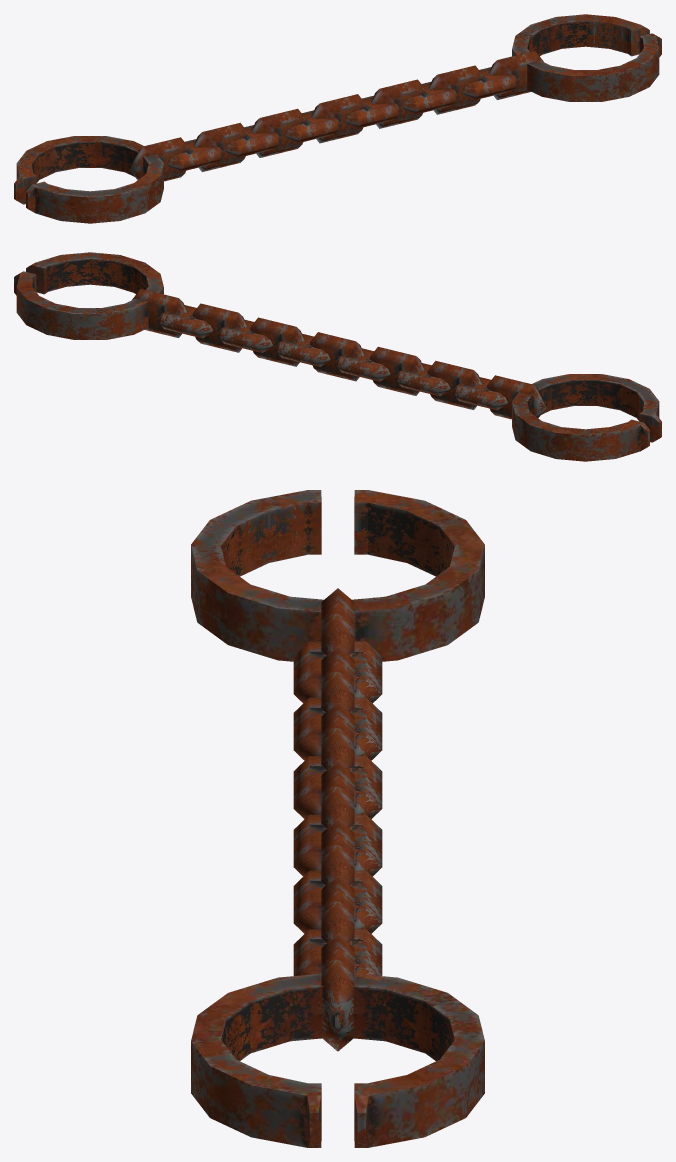
Rendered from rusted_chain_shackles.glb.
3 views of the same model, one above another, from view 1: azimuth 30°, elevation 25°; view 2: azimuth 150°, elevation 25°; view 3: azimuth 270°, elevation 25° (orthographic). The views are drawn at different scales.
Visible parts, largest first — view 1: pTorus1, pTorus2, pCylinder12, pCylinder3, pCylinder11, pCylinder5, pCylinder7, pCylinder13, pCylinder2, pCylinder1, pCylinder6, pCylinder10 (+3 smaller); view 2: pTorus1, pTorus2, pCylinder3, pCylinder12, pCylinder11, pCylinder5, pCylinder7, pCylinder13, pCylinder2, pCylinder1, pCylinder6, pCylinder10 (+3 smaller); view 3: pTorus2, pTorus1, pCylinder2, pCylinder8, pCylinder4, pCylinder9, pCylinder6, pCylinder10, pCylinder1, pCylinder11, pCylinder3, pCylinder12 (+3 smaller).
Boxes of the visible parts, <box> form: pTorus1: <box>14,136,163,223</box>; pTorus2: <box>512,14,661,101</box>; pCylinder12: <box>311,94,365,143</box>; pCylinder3: <box>429,65,483,114</box>; pCylinder11: <box>251,108,305,157</box>; pCylinder5: <box>371,79,425,128</box>; pCylinder7: <box>194,122,248,171</box>; pCylinder13: <box>129,137,188,181</box>; pCylinder2: <box>489,51,543,99</box>; pCylinder1: <box>462,67,517,100</box>; pCylinder6: <box>345,95,399,128</box>; pCylinder10: <box>168,139,222,172</box>; pTorus1: <box>512,374,661,461</box>; pTorus2: <box>14,252,163,339</box>; pCylinder3: <box>192,303,246,352</box>; pCylinder12: <box>310,332,364,381</box>; pCylinder11: <box>370,346,424,395</box>; pCylinder5: <box>250,317,304,366</box>; pCylinder7: <box>427,360,481,409</box>; pCylinder13: <box>487,375,546,419</box>; pCylinder2: <box>132,289,186,337</box>; pCylinder1: <box>158,305,213,338</box>; pCylinder6: <box>276,333,330,366</box>; pCylinder10: <box>453,377,507,410</box>; pTorus2: <box>191,973,484,1147</box>; pTorus1: <box>191,490,484,661</box>; pCylinder2: <box>321,934,354,1051</box>; pCylinder8: <box>293,756,382,818</box>; pCylinder4: <box>293,870,382,933</box>; pCylinder9: <box>293,697,382,760</box>; pCylinder6: <box>293,814,382,876</box>; pCylinder10: <box>293,641,382,703</box>; pCylinder1: <box>293,929,382,975</box>; pCylinder11: <box>321,702,354,769</box>; pCylinder3: <box>321,876,354,942</box>; pCylinder12: <box>321,761,354,827</box>.
Size of the model in its own units: 1.96 by 0.1184 by 0.3929.
Materials: 1 (1 with a texture image).
